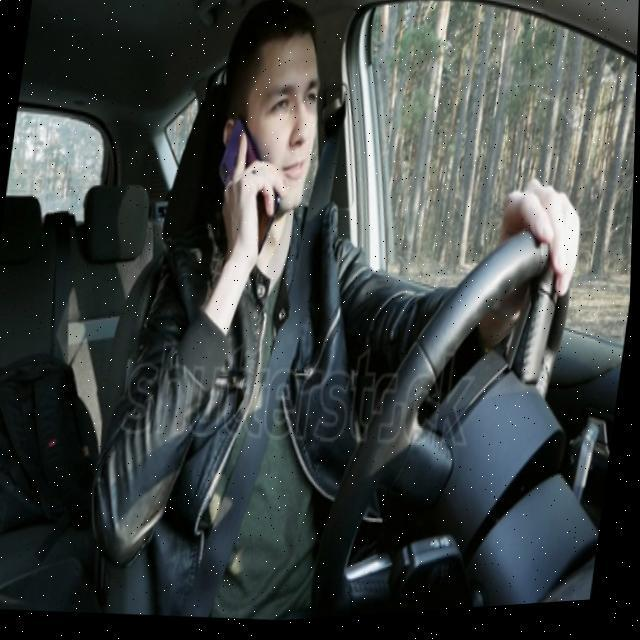PhoneCall: (208, 117, 290, 260)
